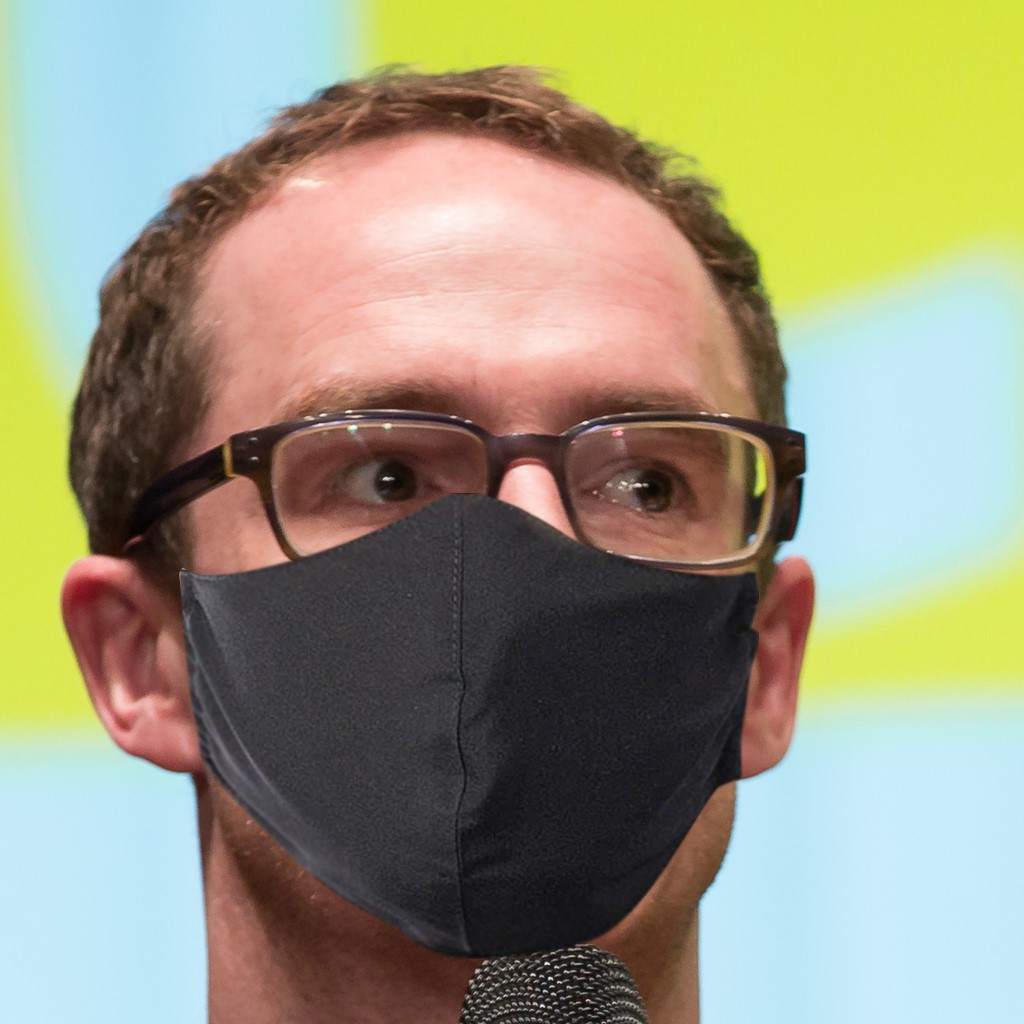con_mascara: (145, 143, 799, 990)
